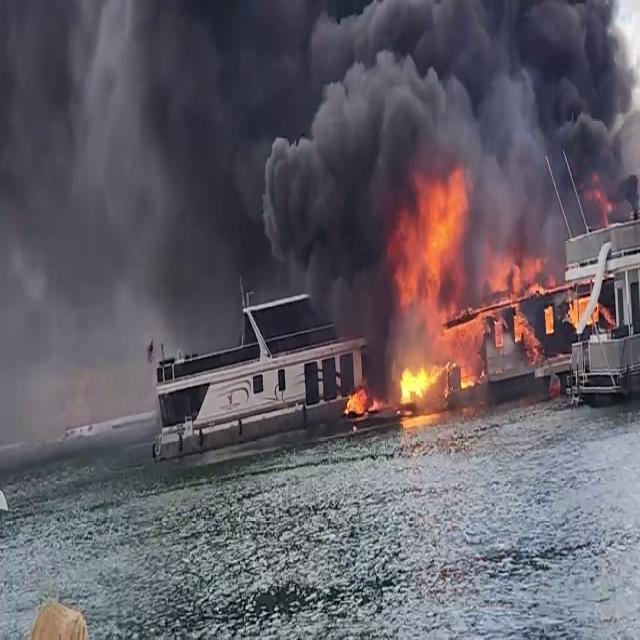Fire: (383, 163, 553, 402), (342, 382, 382, 418)
Smoke: (1, 0, 634, 338)
